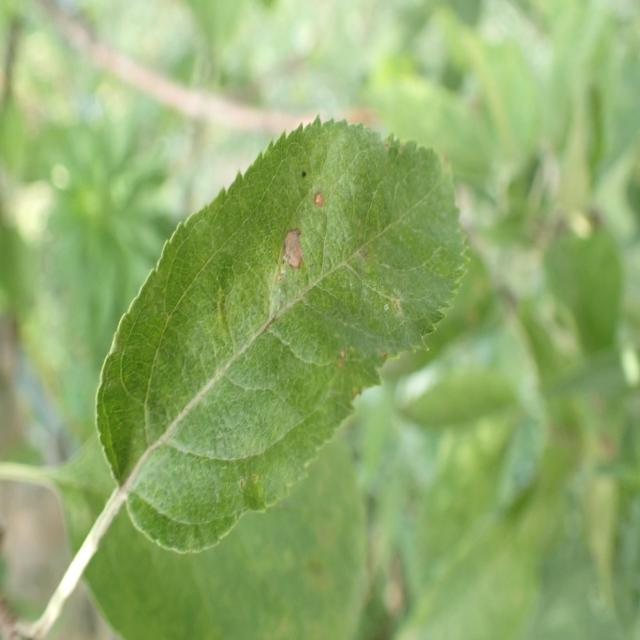frog-eye-leaf-spot: (95, 116, 472, 559)
